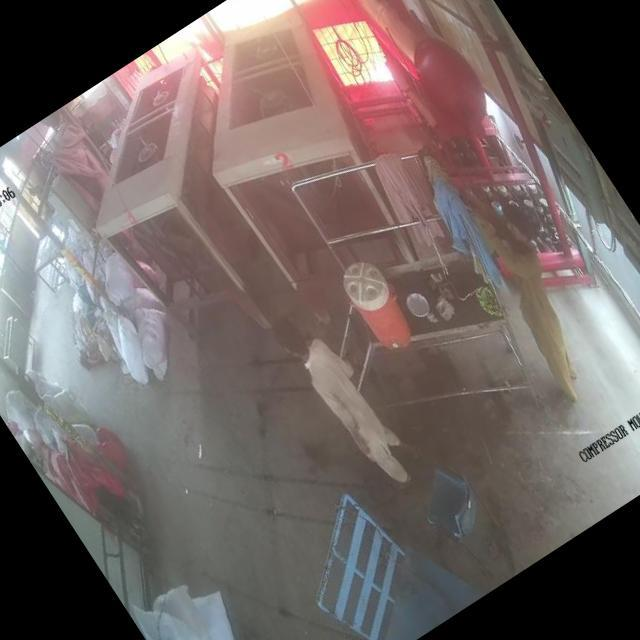person: (459, 177, 640, 427), (265, 296, 428, 504)
